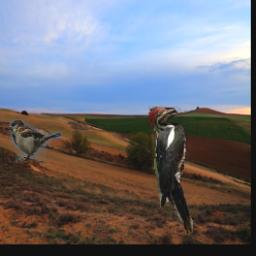Sparrow: (8, 120, 61, 164)
Woodpecker: (148, 106, 192, 234)
